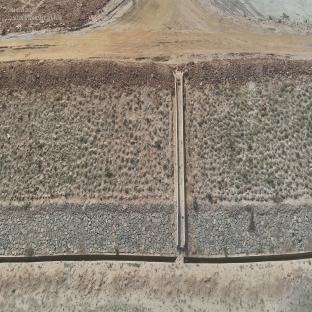rock_toe: (0, 201, 176, 255), (190, 202, 311, 250)
slope_drain: (172, 69, 186, 253)
toe_drain: (0, 250, 312, 265)
